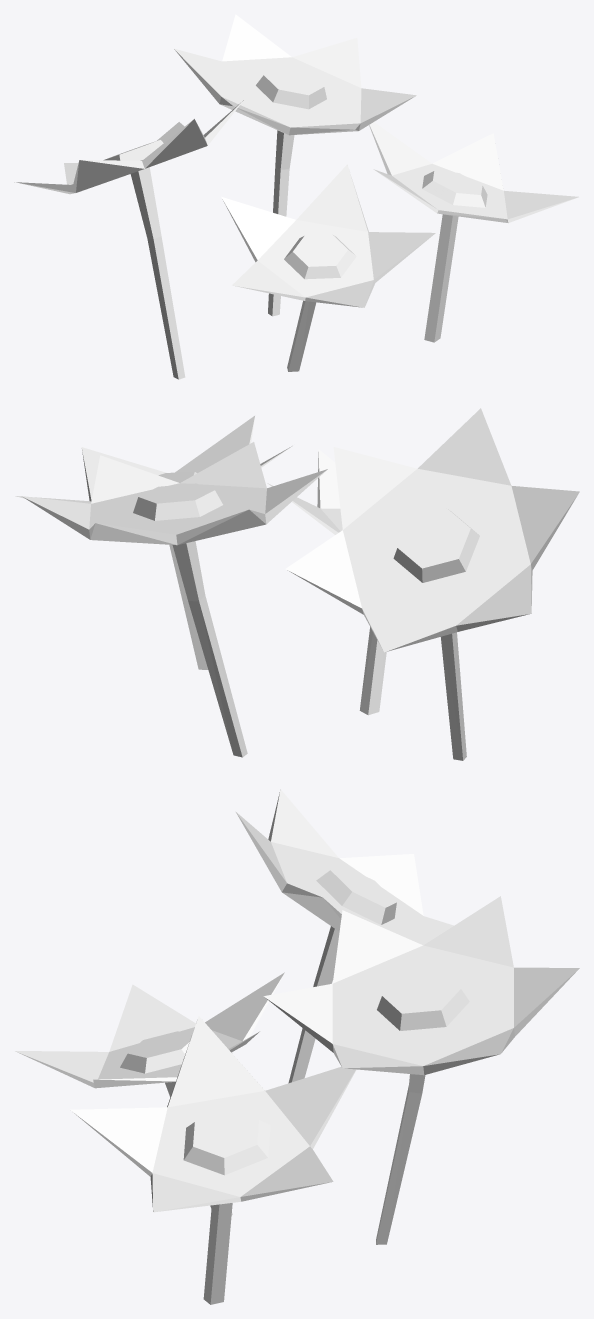
The model's file is Env_Flower_Patch_01.glb.
3 views of the same model, one above another, from view 1: azimuth 30°, elevation 25°; view 2: azimuth 150°, elevation 25°; view 3: azimuth 270°, elevation 25° (orthographic). The views are drawn at different scales.
Visible parts, largest first — view 1: Env_Flower_Patch_01; view 2: Env_Flower_Patch_01; view 3: Env_Flower_Patch_01.
Boxes of the visible parts, bbox=[...] form: Env_Flower_Patch_01: bbox=[14, 14, 578, 379]; Env_Flower_Patch_01: bbox=[15, 408, 579, 760]; Env_Flower_Patch_01: bbox=[15, 789, 579, 1304].
Bounding box in the file's own units: 0.6116 × 0.3405 × 0.5044.
1 material, 1 textured.
